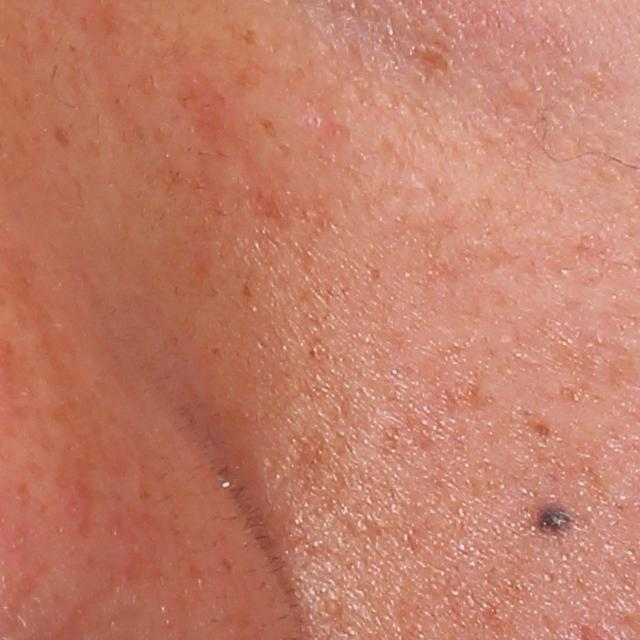melasma: (233, 179, 350, 242), (53, 124, 75, 153)
nevus: (531, 497, 584, 540)
